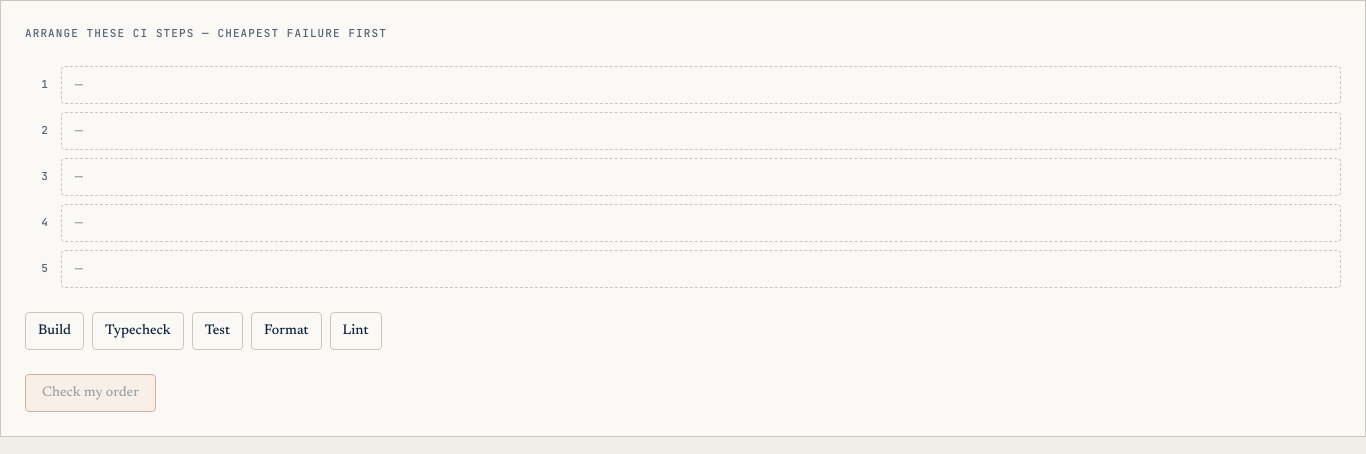
Test case: OrderingExercise › after filling all five, check button enables
Click the button "Build": (54, 330) [25,312,84,350]
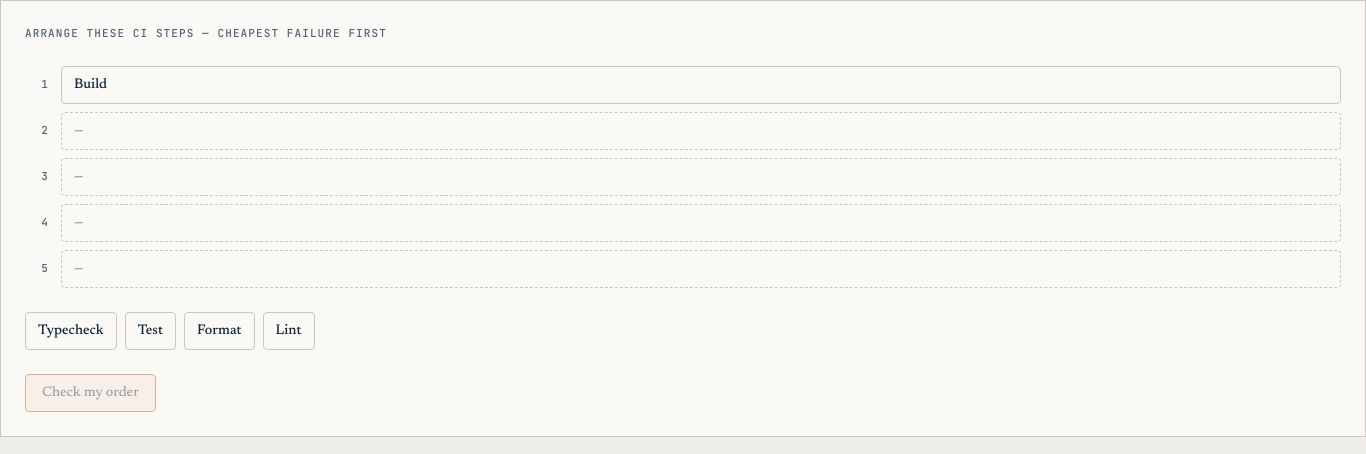
Click the button "Typecheck": (71, 330) [25,312,117,350]
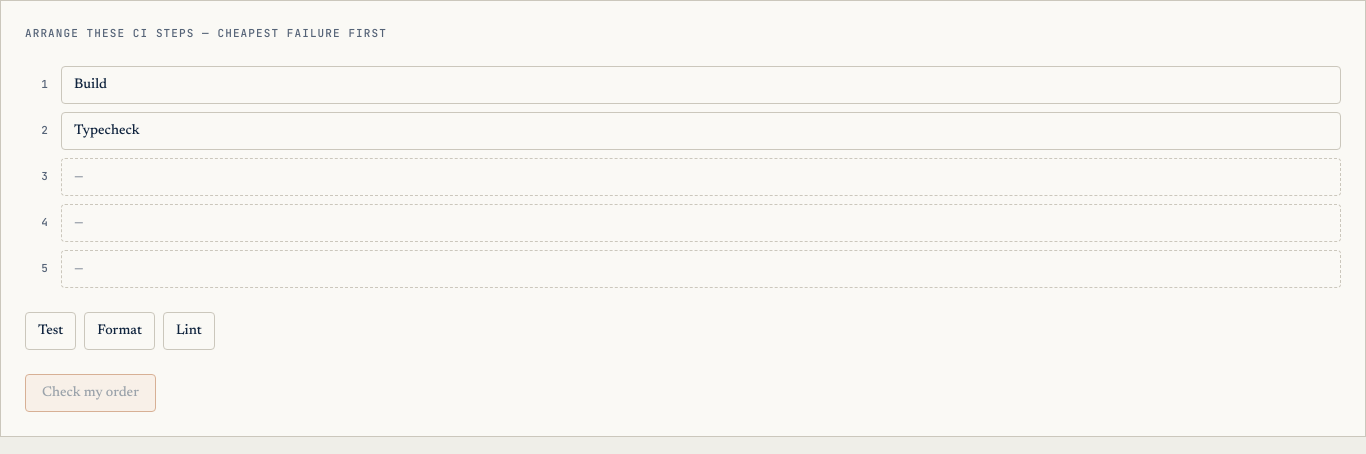
Click the button "Test": (51, 330) [25,312,76,350]
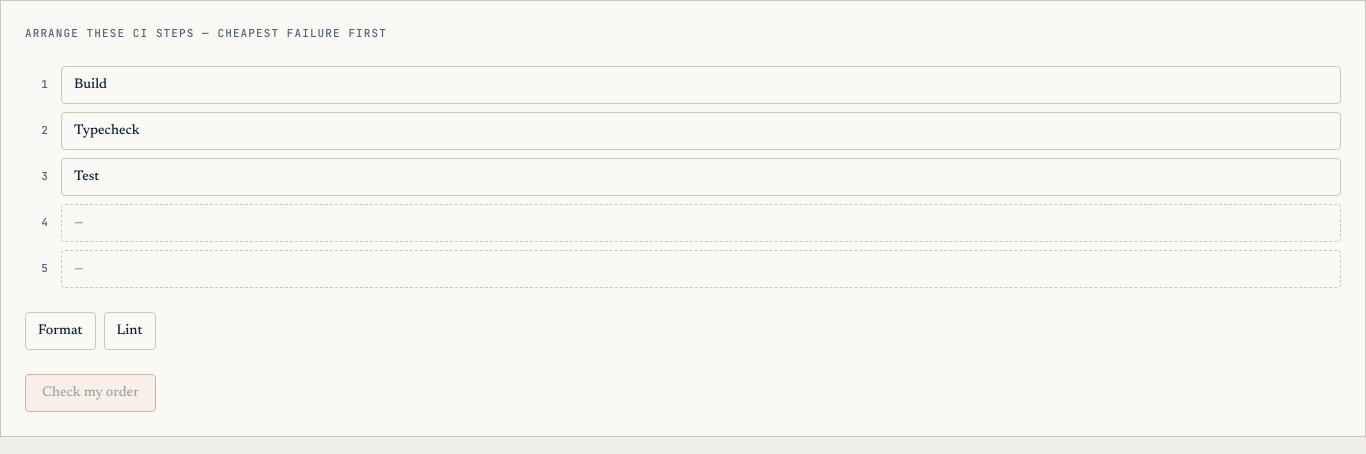
Click the button "Format": (60, 330) [25,312,96,350]
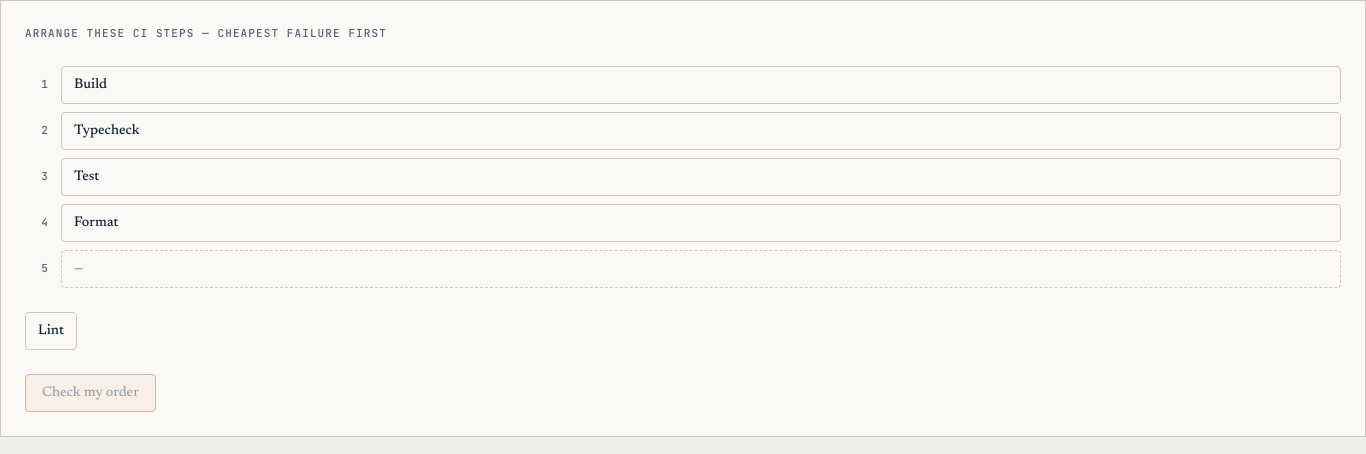
Click the button "Lint": (51, 330) [25,312,77,350]
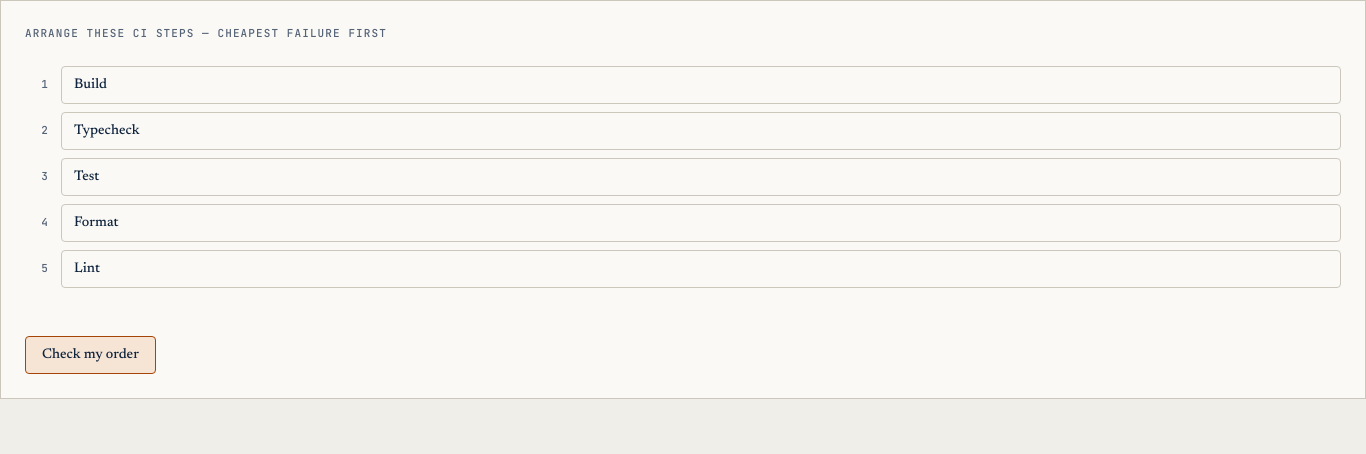
expect the button "Check my order" is enabled: met, box [25,336,156,374]
